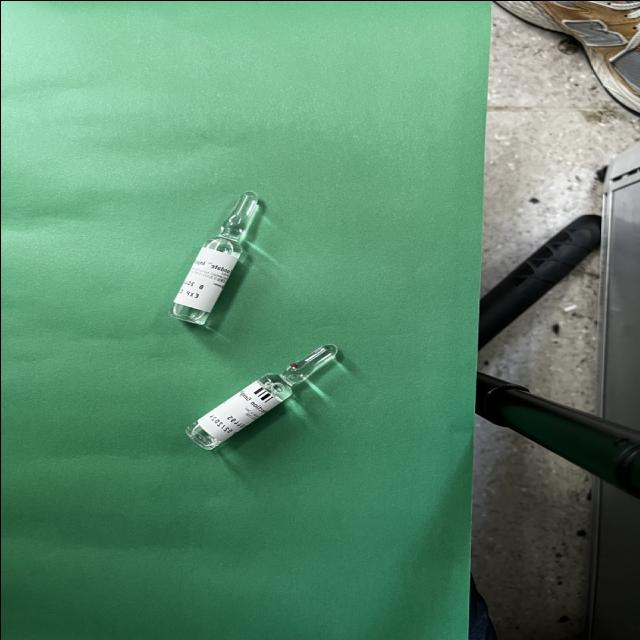Ampoules: (183, 343, 337, 450), (167, 190, 257, 326)
